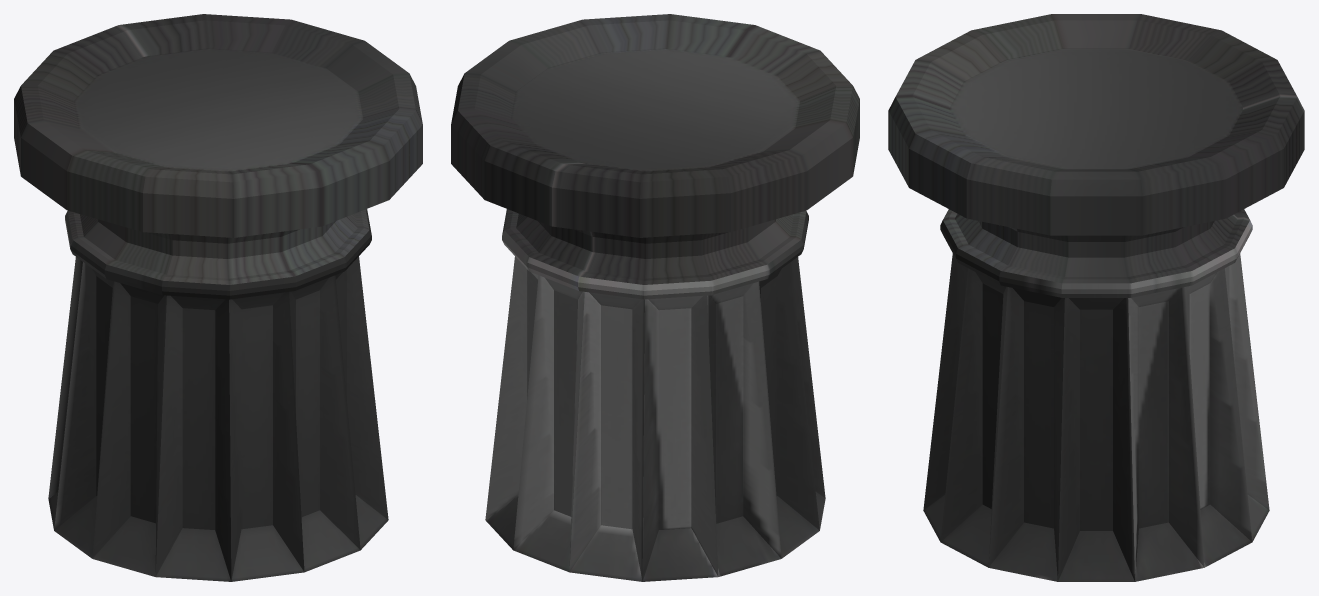
The model's file is pillar-maison.gltf.
3 views of the same model, side by side, from view 1: azimuth 30°, elevation 25°; view 2: azimuth 150°, elevation 25°; view 3: azimuth 270°, elevation 25° (orthographic).
Parts seen in each view (by area): view 1: Cylinder; view 2: Cylinder; view 3: Cylinder.
Boxes of the visible parts, bbox=[...] form: Cylinder: bbox=[14, 14, 422, 581]; Cylinder: bbox=[451, 14, 859, 581]; Cylinder: bbox=[888, 14, 1304, 581].
Bounding box in the file's own units: 2.86 × 3.23 × 2.94.
Materials: 1 (1 with a texture image).
